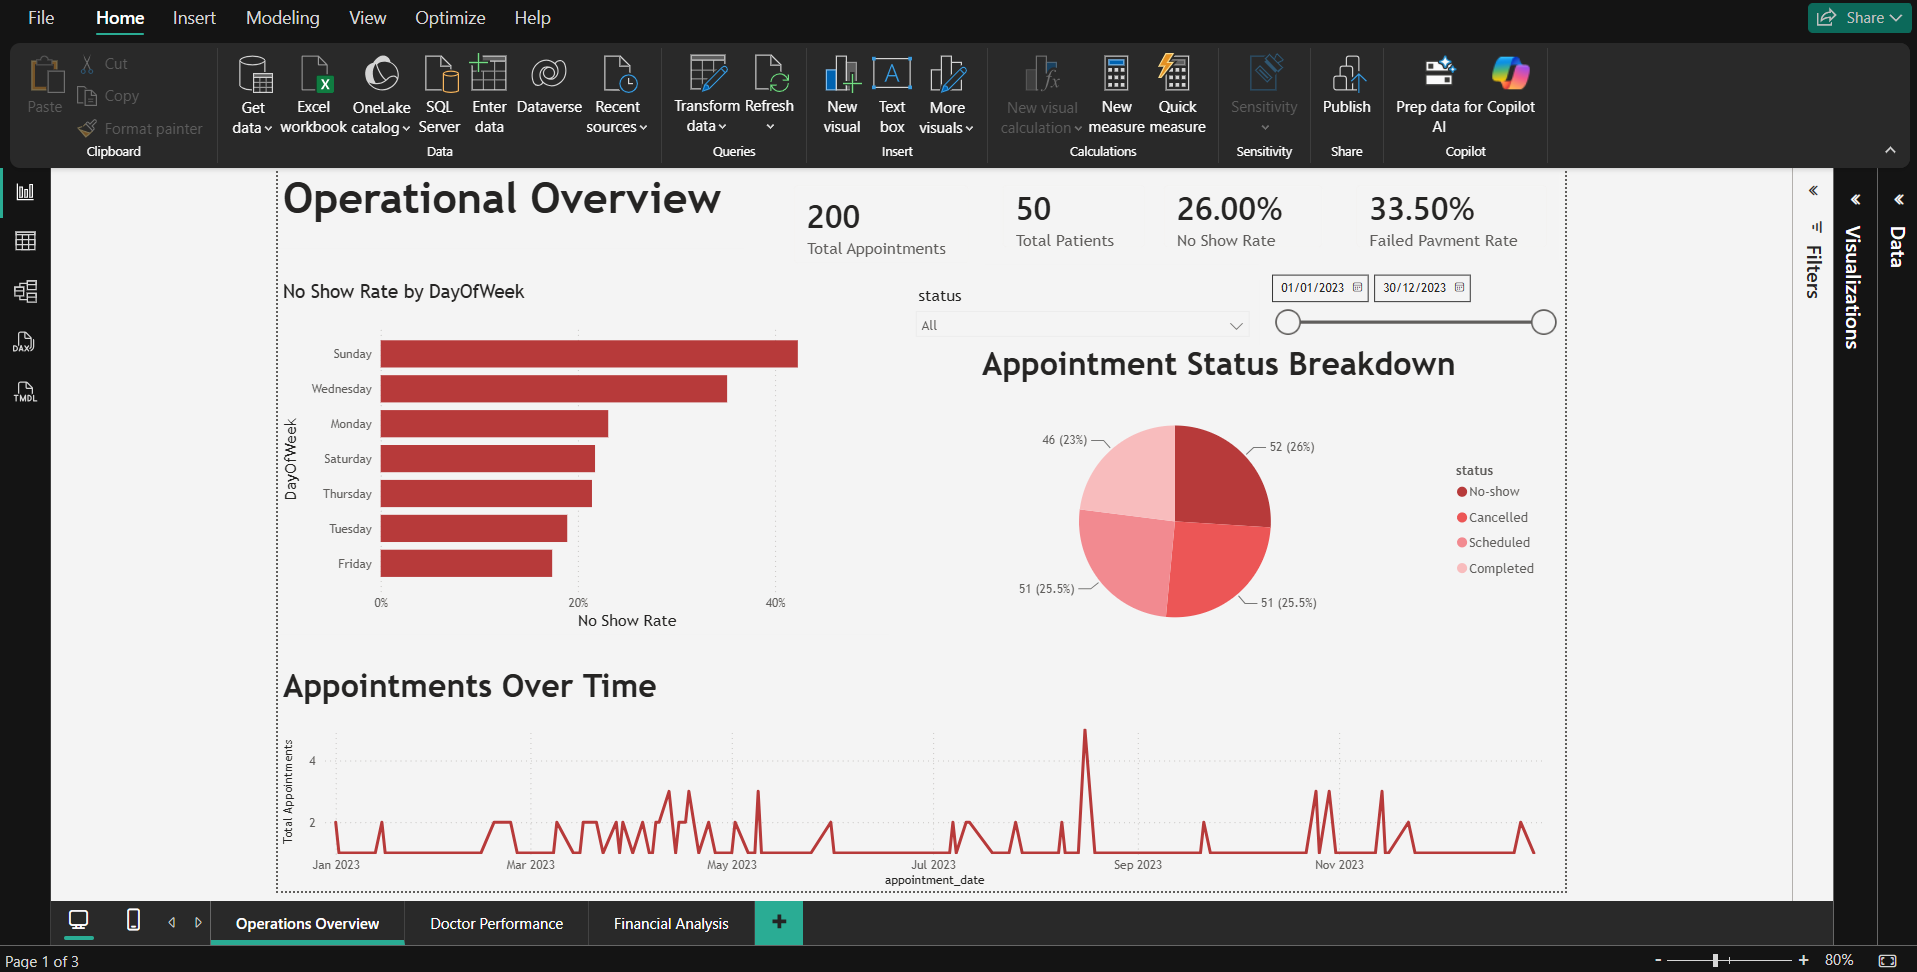

This screenshot's page, from the dashboard's own definition file:
{"tool":"powerbi","page":{"name":"Operations Overview","canvas":[1280,720],"ordinal":0},"visuals":[{"type":"cardVisual","fields":{"Data":["_Measures.Total Appointments"]},"box":[496,0,192,96],"z":0},{"type":"textbox","box":[0,0,464,80],"z":1000},{"type":"cardVisual","fields":{"Data":["_Measures.Total Patients"]},"box":[688,0,192,96],"z":2000},{"type":"cardVisual","fields":{"Data":["_Measures.No Show Rate"]},"box":[864,0,192,96],"z":3000},{"type":"cardVisual","fields":{"Data":["_Measures.Failed Payment Rate"]},"box":[1056,0,224,96],"z":4000},{"type":"pieChart","title":"Appointment Status Breakdown","fields":{"Category":["appointments.status"],"Y":["_Measures.Total Appointments"]},"box":[608,176,656,304],"z":5000},{"type":"lineChart","title":"Appointments Over Time","fields":{"Y":["_Measures.Total Appointments"],"Category":["appointments.appointment_date"]},"box":[0,496,1280,224],"z":6000},{"type":"barChart","fields":{"Category":["appointments.DayOfWeek"],"Y":["_Measures.No Show Rate"]},"box":[0,96,608,368],"z":7000},{"type":"slicer","fields":{"Values":["appointments.appointment_date"]},"box":[976,96,304,80],"z":8000},{"type":"slicer","fields":{"Values":["appointments.status"]},"box":[624,96,352,80],"z":9000}]}

Visuals, with their boxes on the page's 1280x720 design canvas (x1, y1, x2, y2). These are canvas units, not pixel positions in the 1917x972 screenshot, which may show the page scaled, cropped or inside an application window:
cardVisual - _Measures.Total Appointments: (496, 0, 688, 96)
textbox: (0, 0, 464, 80)
cardVisual - _Measures.Total Patients: (688, 0, 880, 96)
cardVisual - _Measures.No Show Rate: (864, 0, 1056, 96)
cardVisual - _Measures.Failed Payment Rate: (1056, 0, 1280, 96)
"Appointment Status Breakdown" pieChart: (608, 176, 1264, 480)
"Appointments Over Time" lineChart: (0, 496, 1280, 720)
barChart - appointments.DayOfWeek x _Measures.No Show Rate: (0, 96, 608, 464)
slicer - appointments.appointment_date: (976, 96, 1280, 176)
slicer - appointments.status: (624, 96, 976, 176)
